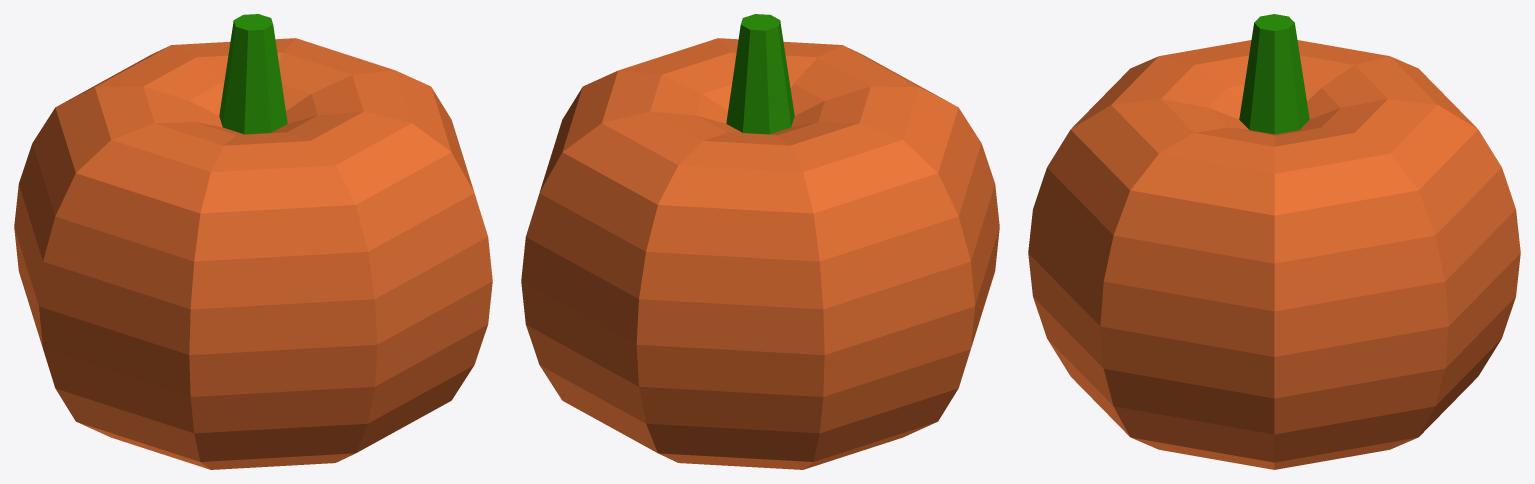
The model's file is pumpkin.fbx.
The picture shows the model from 3 angles, left to right: view 1: azimuth 30°, elevation 25°; view 2: azimuth 150°, elevation 25°; view 3: azimuth 270°, elevation 25°; orthographic projection.
Visible parts, largest first — view 1: Sphere, Cylinder; view 2: Sphere, Cylinder; view 3: Sphere, Cylinder.
Part boxes in pixels (x1,y1,x2,y2): Sphere: (14, 38, 492, 469); Cylinder: (219, 14, 287, 134); Sphere: (521, 38, 999, 469); Cylinder: (726, 14, 794, 134); Sphere: (1028, 40, 1520, 469); Cylinder: (1239, 14, 1309, 134).
Bounding box in the file's own units: 200 × 172 × 200.
